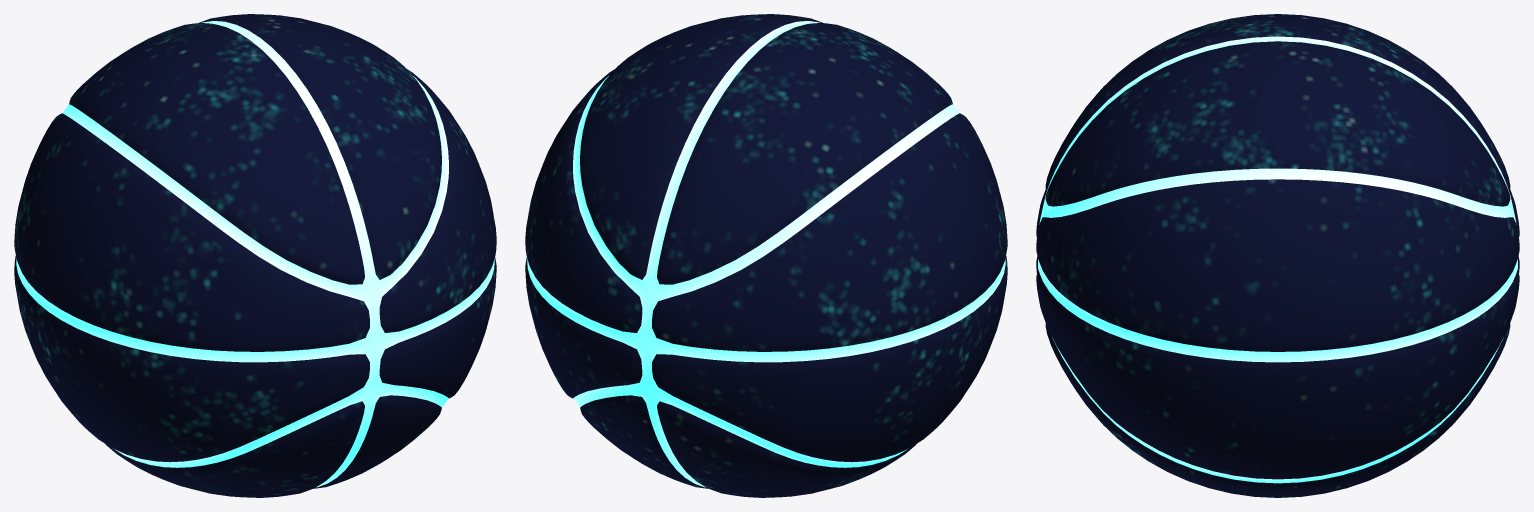
File: ball10.fbx
3 views of the same model, side by side, from view 1: azimuth 30°, elevation 25°; view 2: azimuth 150°, elevation 25°; view 3: azimuth 270°, elevation 25° (orthographic).
Parts seen in each view (by area): view 1: Cube, Cube.001; view 2: Cube, Cube.001; view 3: Cube, Cube.001.
Part boxes in pixels (x1=…): Cube: x1=14, y1=14, x2=496, y2=497; Cube.001: x1=16, y1=21, x2=494, y2=487; Cube: x1=525, y1=14, x2=1007, y2=497; Cube.001: x1=527, y1=21, x2=1005, y2=487; Cube: x1=1036, y1=14, x2=1519, y2=497; Cube.001: x1=1038, y1=36, x2=1517, y2=483.
Bounding box in the file's own units: 268 × 268 × 268.
Materials: 2 (2 with a texture image).
